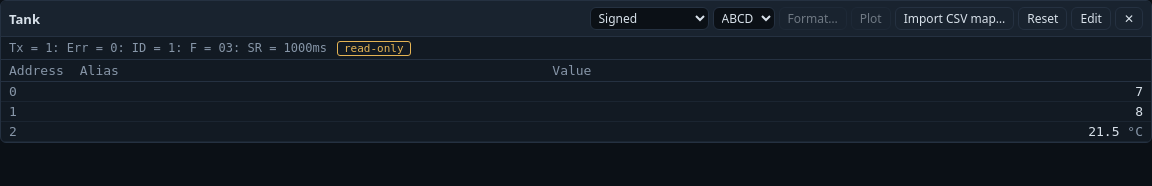
write by double-click › does not open on a read-only connection
expect the text "read-only" is shown: met, box [337, 41, 411, 56]
Step 1. Double-click the text "7" → (848, 92), box [544, 82, 1151, 102]
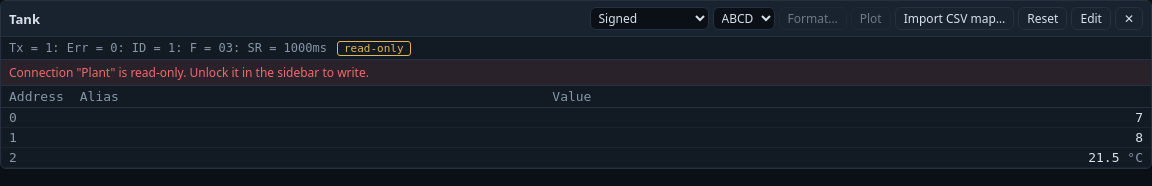
expect the text "Connection \"Plant\" is read-only" is shown: met, box [9, 64, 369, 81]
